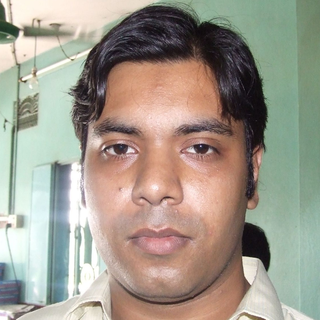eye: (178, 135, 228, 160), (95, 141, 143, 161)
